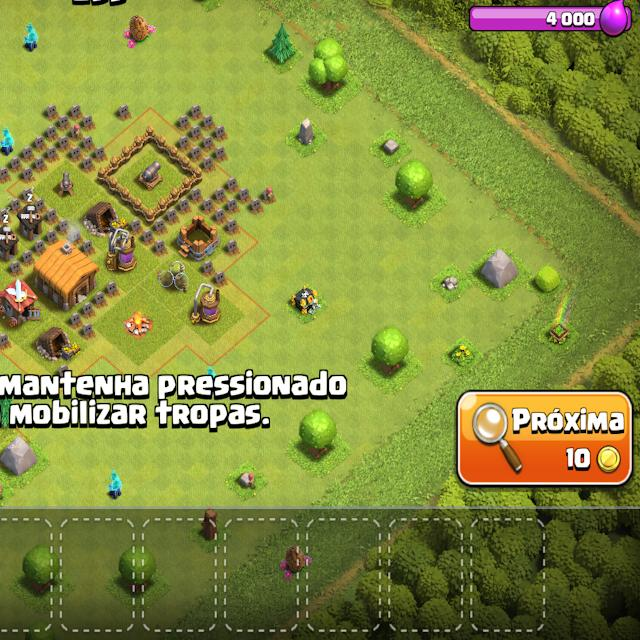Canhao: (138, 159, 165, 189), (52, 170, 76, 197)
Next: (458, 387, 638, 494)
